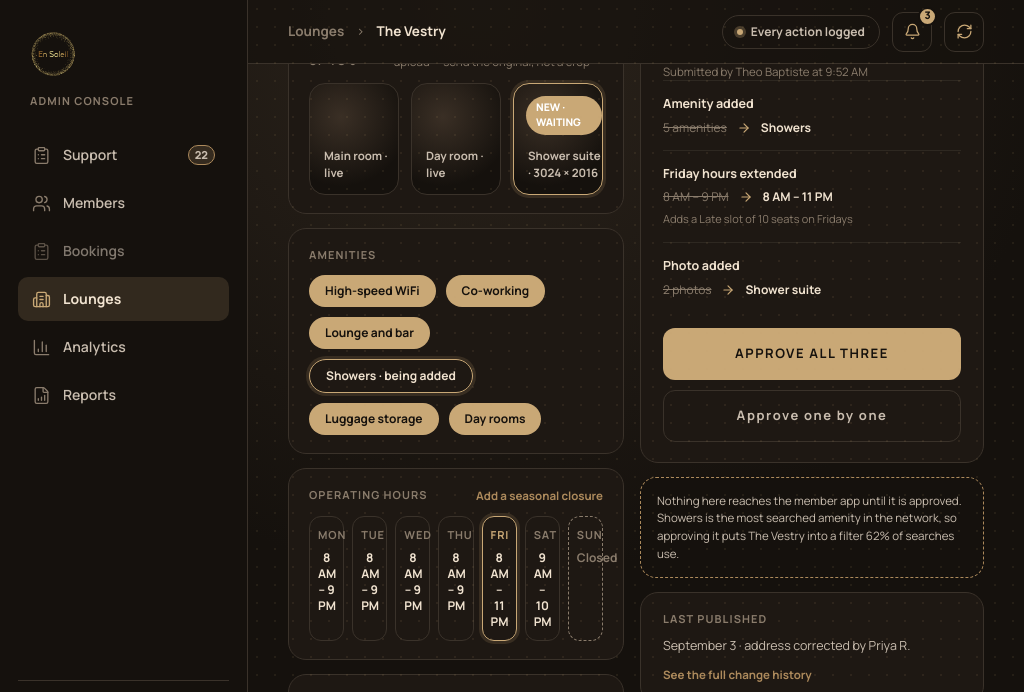
Test: Lounge editor (/admin/lounges/[id]) › approves changes one by one
(page scrolled)
Click the button "Approve one by one": (812, 416) [663,390,961,442]
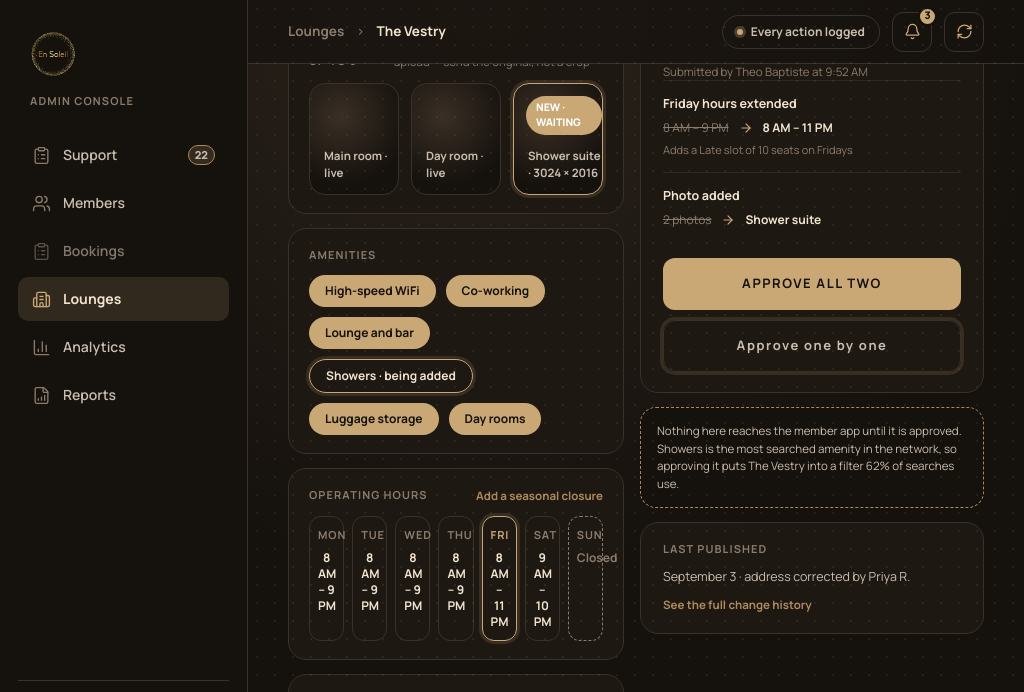
Click the button "Approve one by one": (812, 346) [663,320,961,372]
(page scrolled)
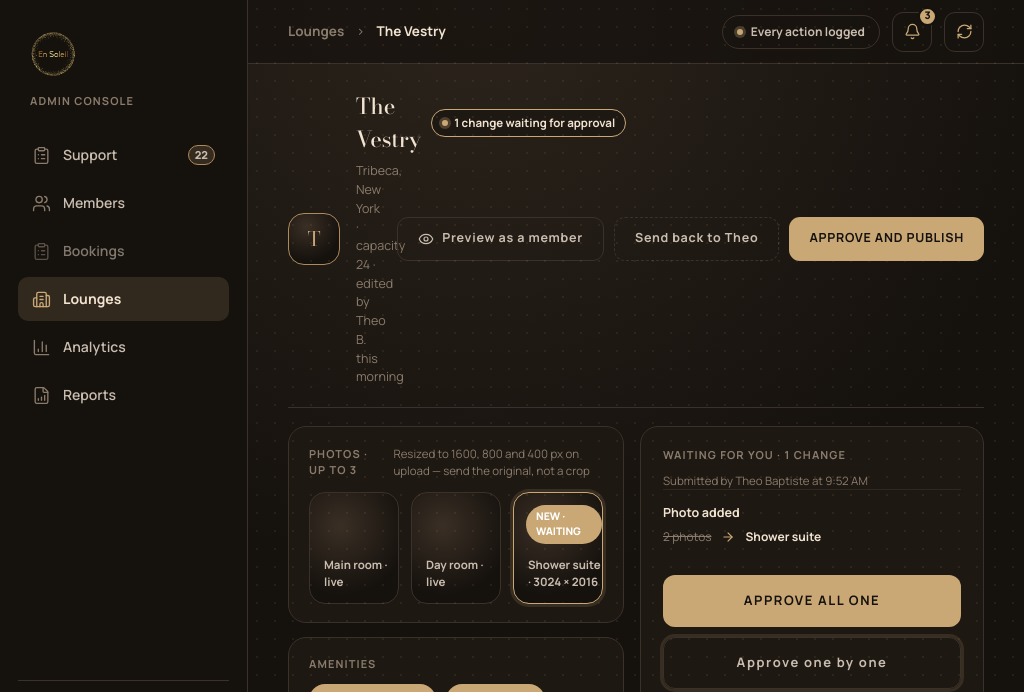
Now the text "1 change waiting for approval" is shown, box [431,109,626,137]
